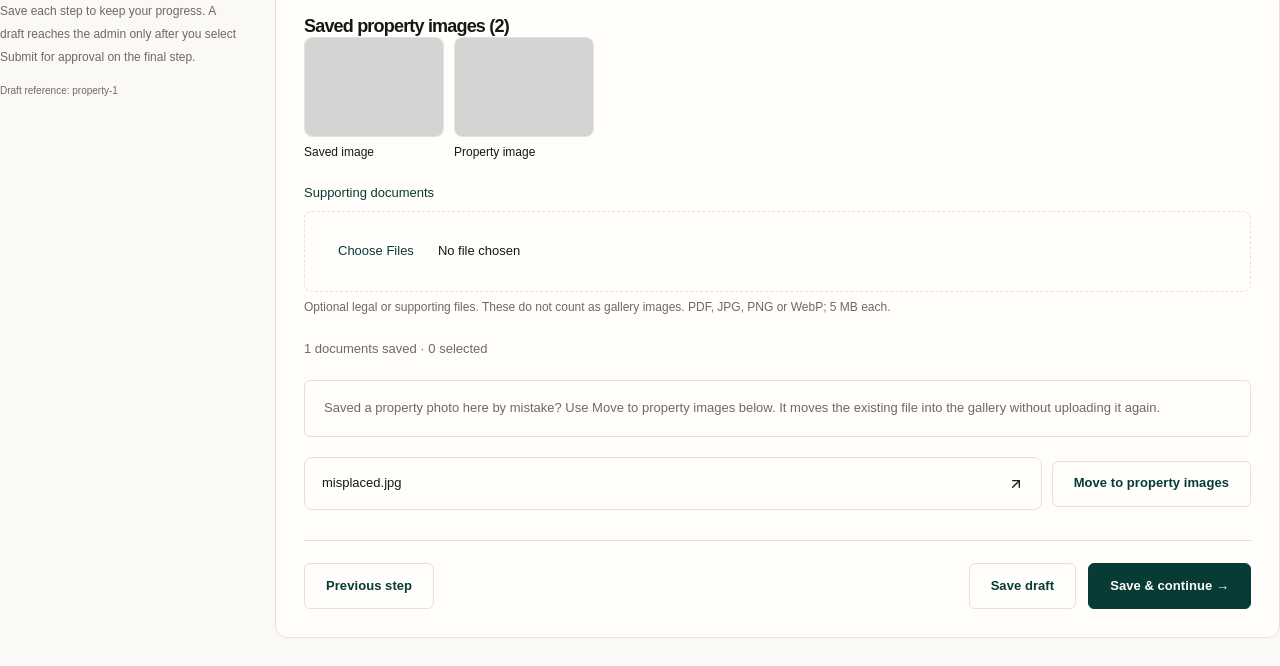
Test: saved listing wizard › moves saved supporting photos into the property gallery without reupload and clears obsolete missing-image errors
(page scrolled)
Click the button "Save & continue →". click: (1170,586)
box: [1088,563,1251,609]
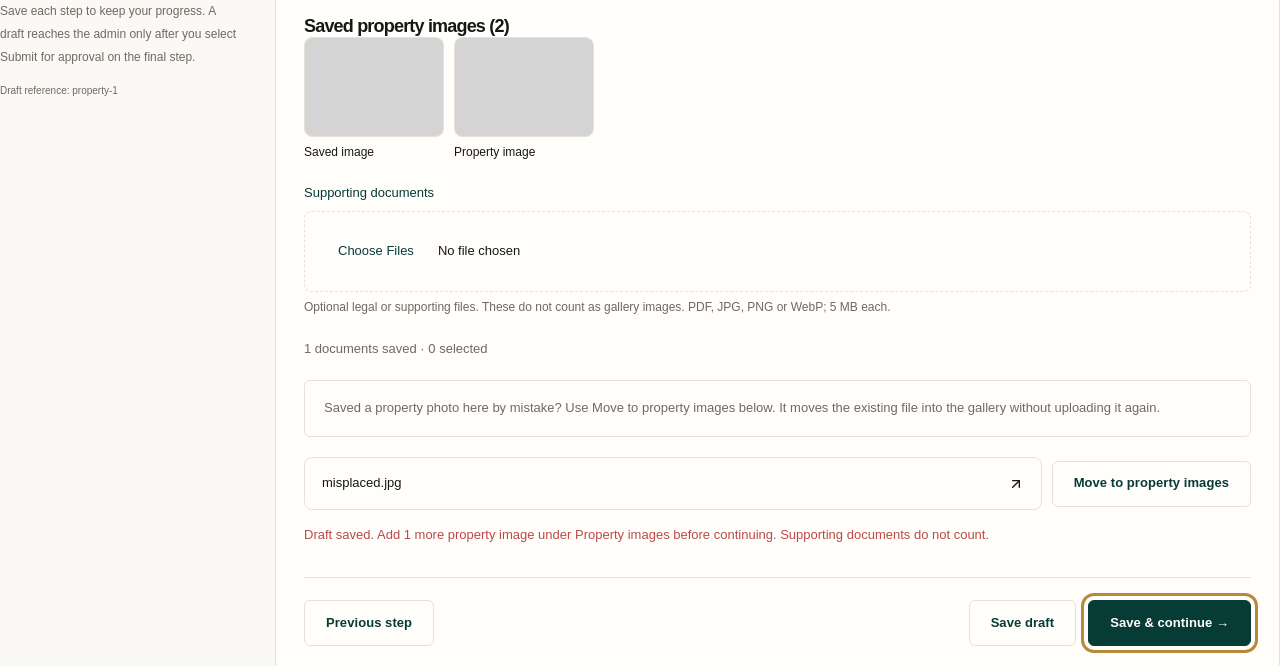
Check: the message is shown, box [304,527,989,542]
Click the button with aria-label "Move misplaced.jpg to property images". click: (1151,484)
box: [1052,460,1251,506]
(page scrolled)
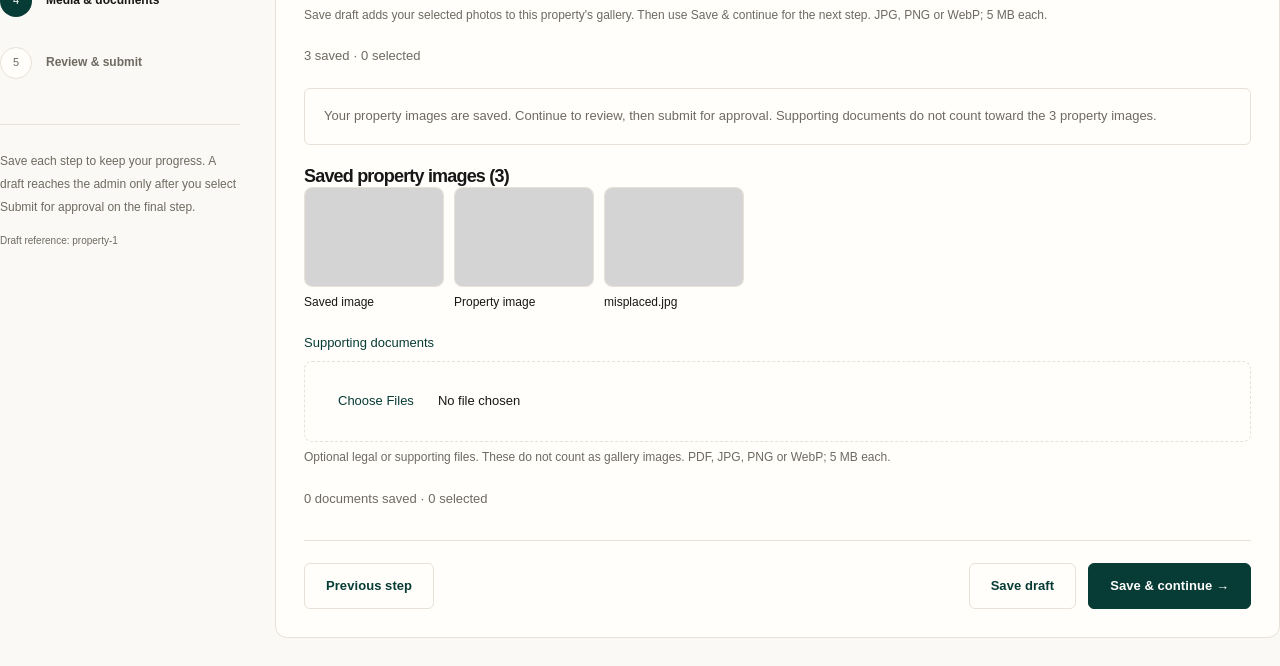
Check: the heading "Saved property images (3)" is shown, box [304,166,509,186]
Check: the message "Draft saved. Add 1 more property image under Property images before continuing." is gone
